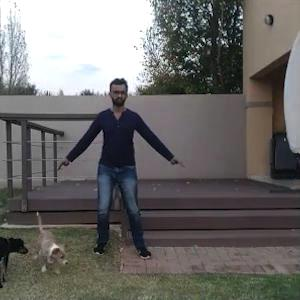land: (58, 87, 199, 247)
